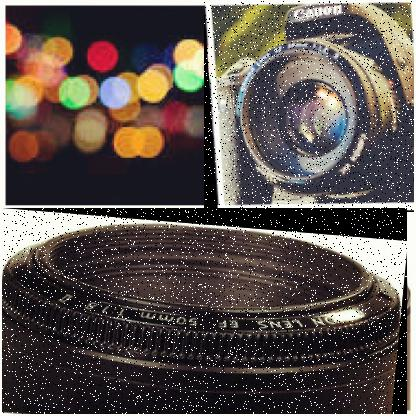Camera: (3, 209, 409, 416), (205, 2, 416, 214)
